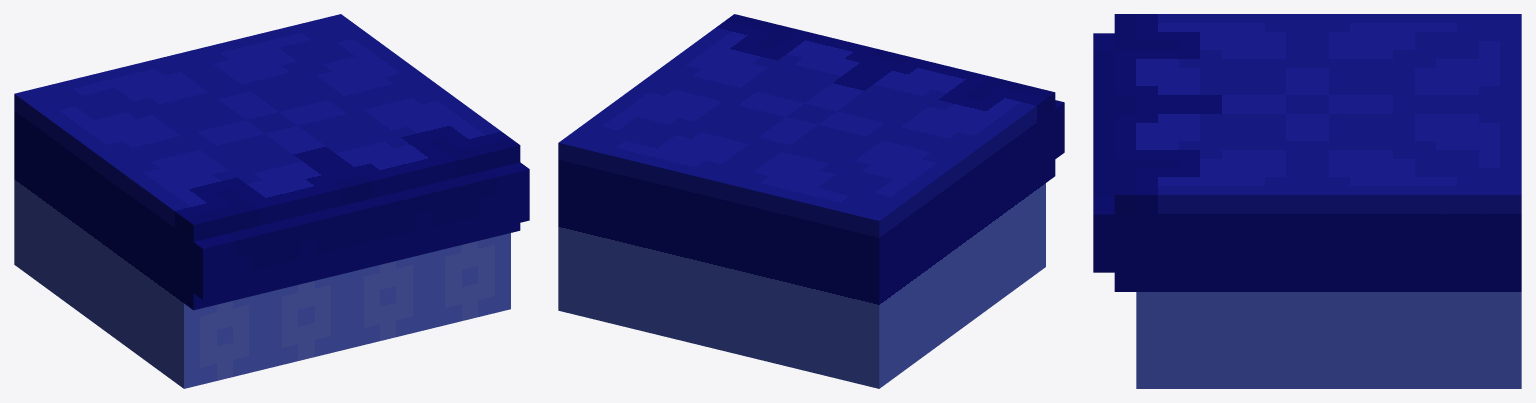
Rendered from half_top_edge2.glb.
3 renders of one model, left to right at view 1: azimuth 30°, elevation 25°; view 2: azimuth 150°, elevation 25°; view 3: azimuth 270°, elevation 25°, orthographic. The views are drawn at different scales.
Visible parts, largest first — view 1: half_top_edge; view 2: half_top_edge; view 3: half_top_edge.
Part boxes in pixels (left/top/right/bottom): half_top_edge: left=14, top=14, right=529, bottom=388; half_top_edge: left=558, top=14, right=1064, bottom=388; half_top_edge: left=1093, top=14, right=1521, bottom=388.
Size of the model in its own units: 2 by 1 by 2.
1 material, 1 textured.
